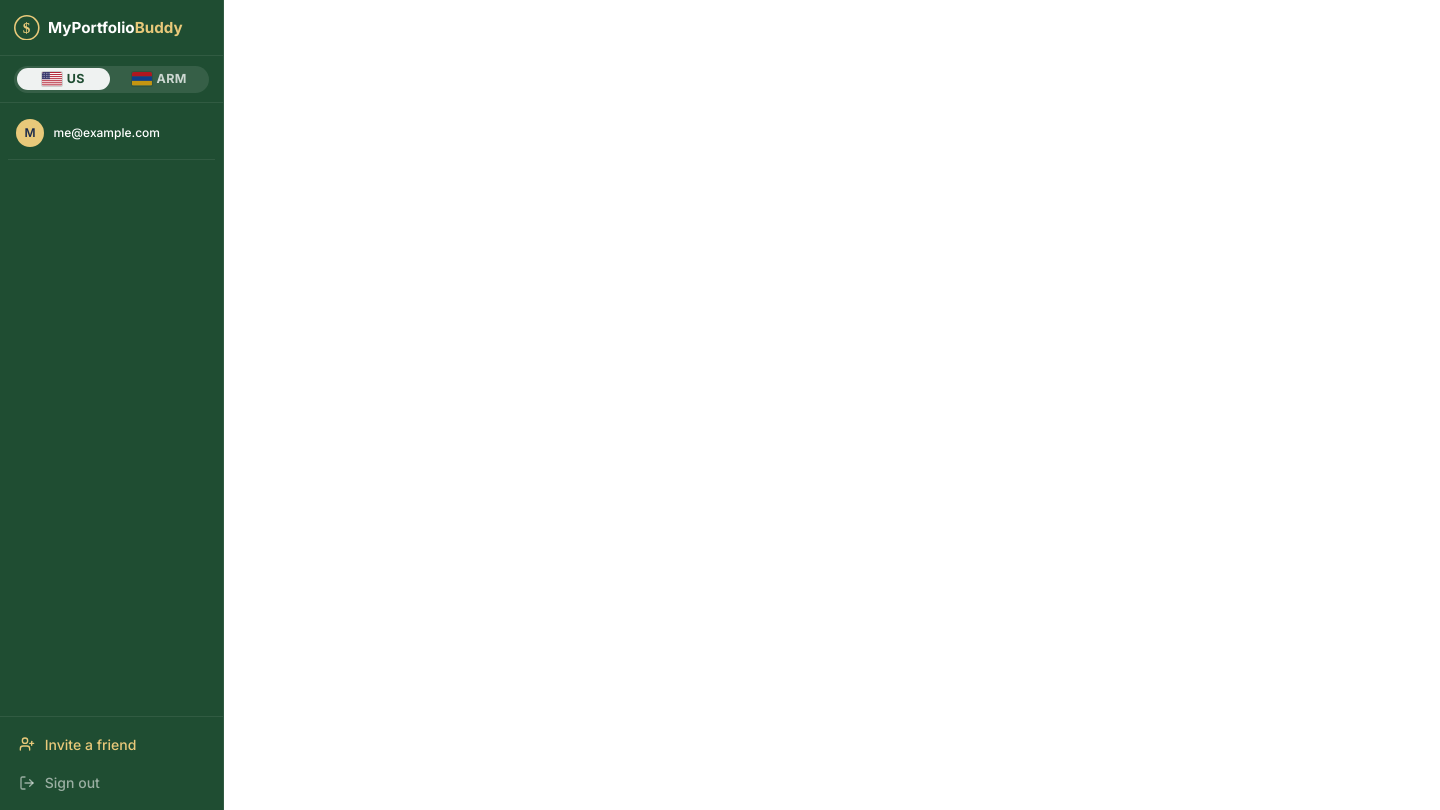
Test: AppHeader sign out › keeps the dialog open and busy while signing out
What coordinates should you click on to do the following:
click the button "Sign out"
I would click on:
 (112, 783)
Its box is [8,763,215,802].
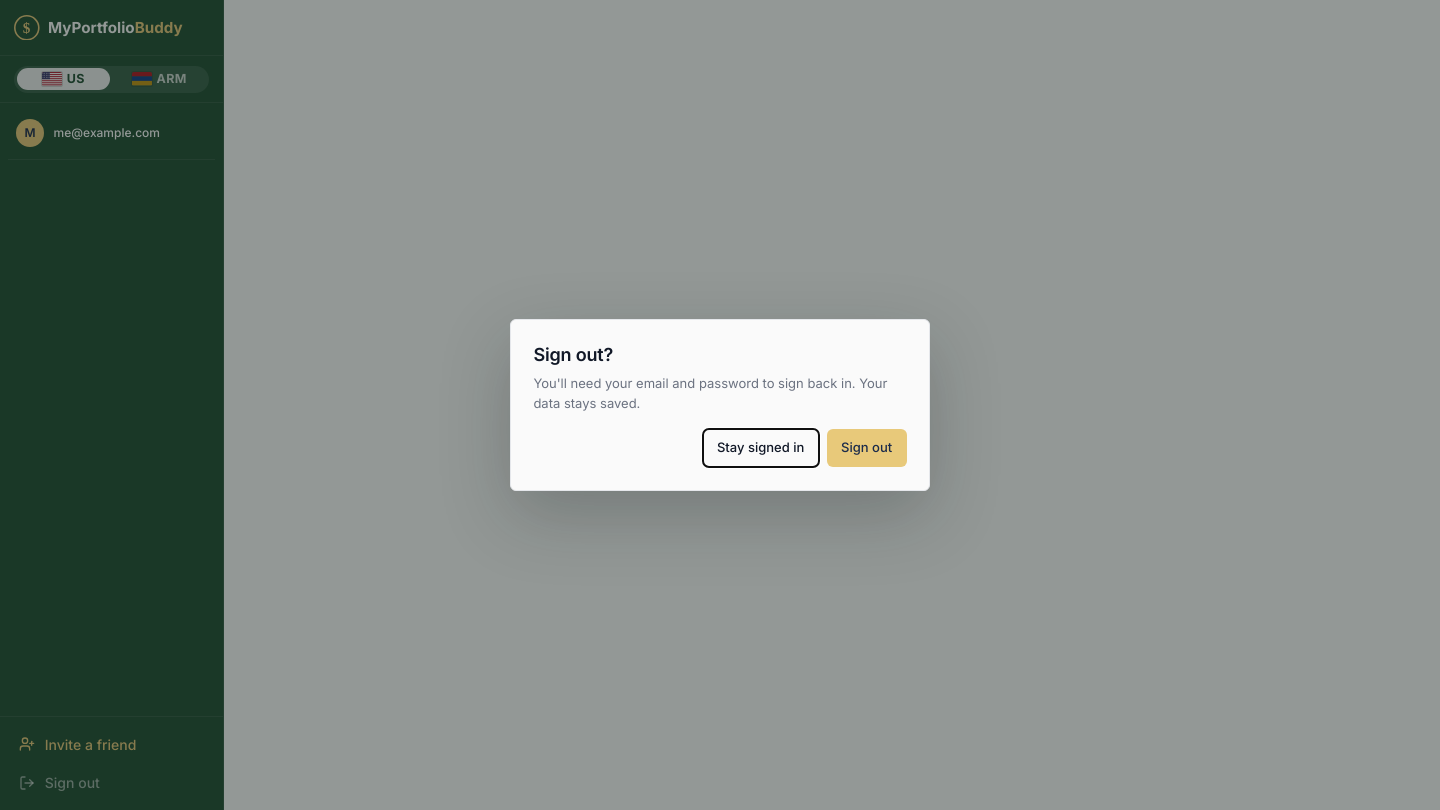
What coordinates should you click on to do the following:
click the button "Sign out"
I would click on:
 (867, 448)
Its box is [827,429,907,467].
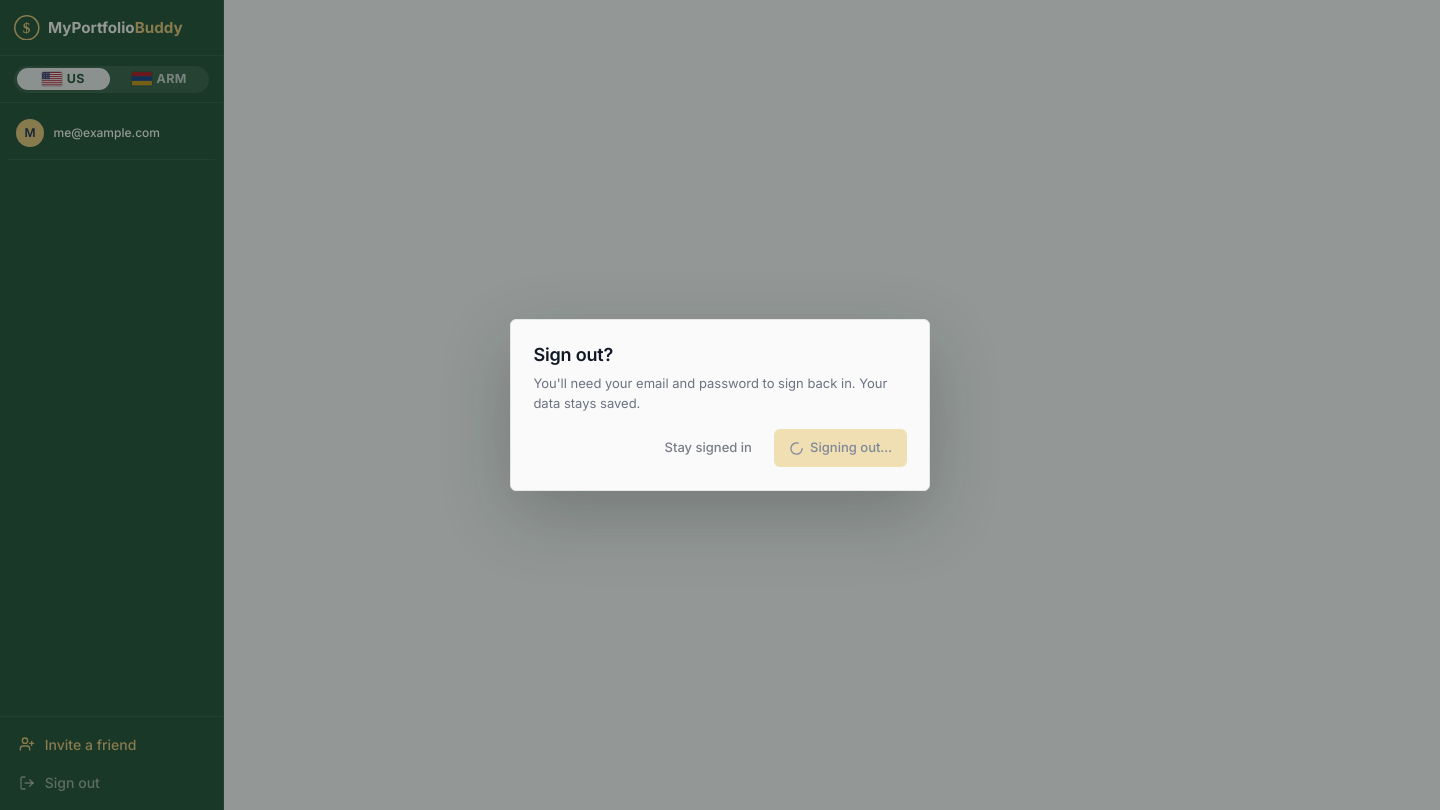
Now the dialog "Sign out?" is shown, box [510,319,930,491]
Now the button "Signing out…" is disabled, box [774,429,907,467]
Now the button "Stay signed in" is disabled, box [650,429,766,467]
